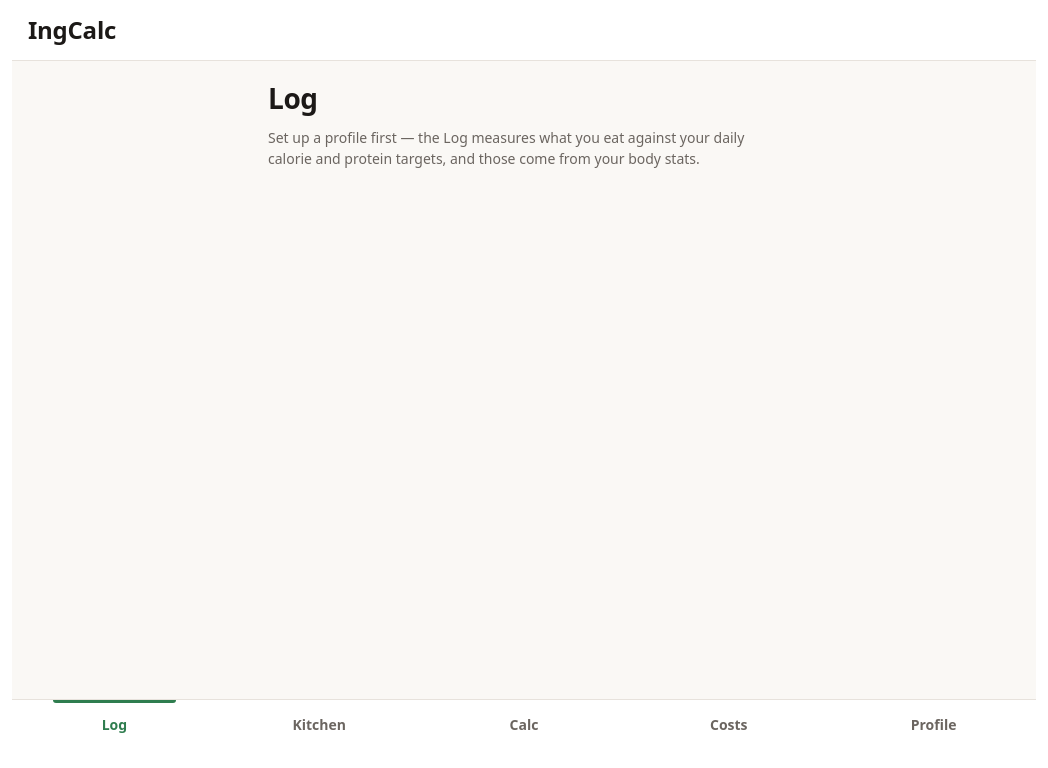
App Kitchen tab › opens the Kitchen screen
The width and height of the screenshot is (1048, 768).
Click the tab "Kitchen".
click(319, 734)  # box [217, 700, 422, 767]
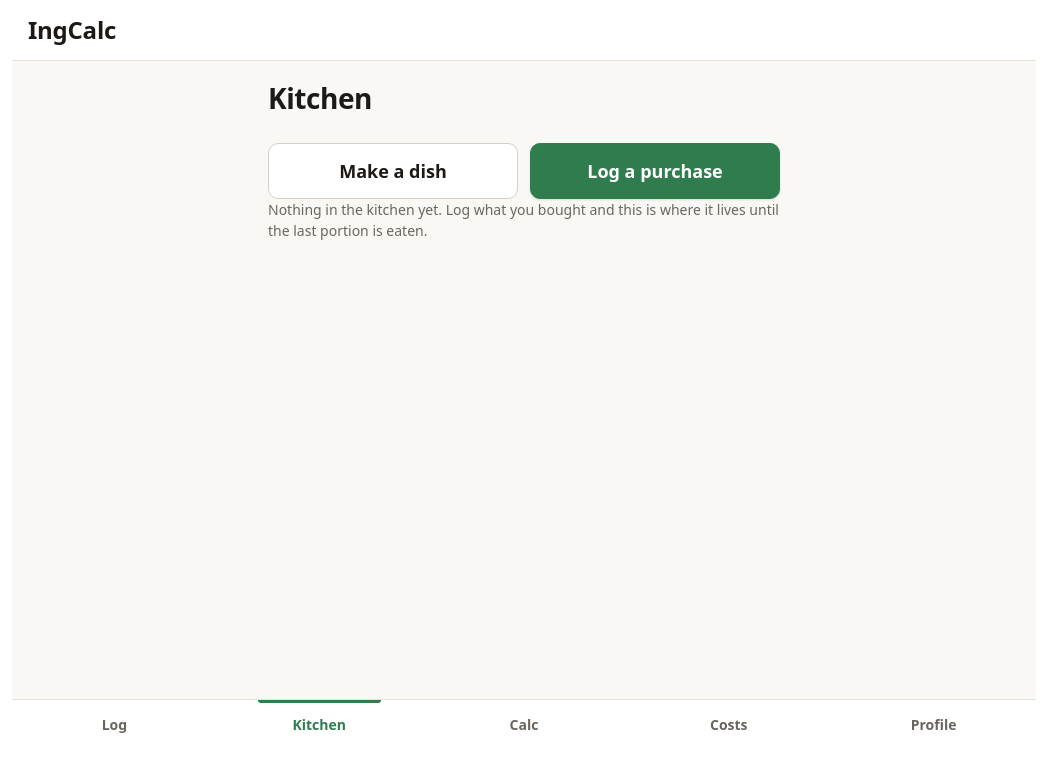
Check: the heading "Kitchen" is shown, box [268, 79, 372, 117]
